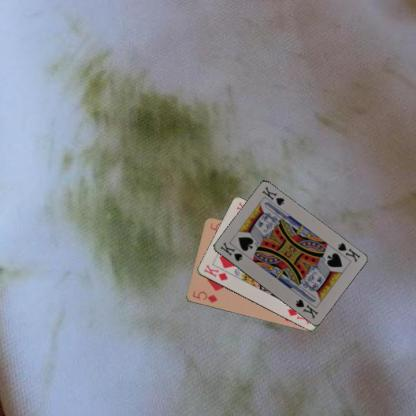5d: (190, 288, 218, 304)
Kd: (201, 262, 229, 282)
Ks: (335, 240, 362, 263), (217, 240, 243, 262)
